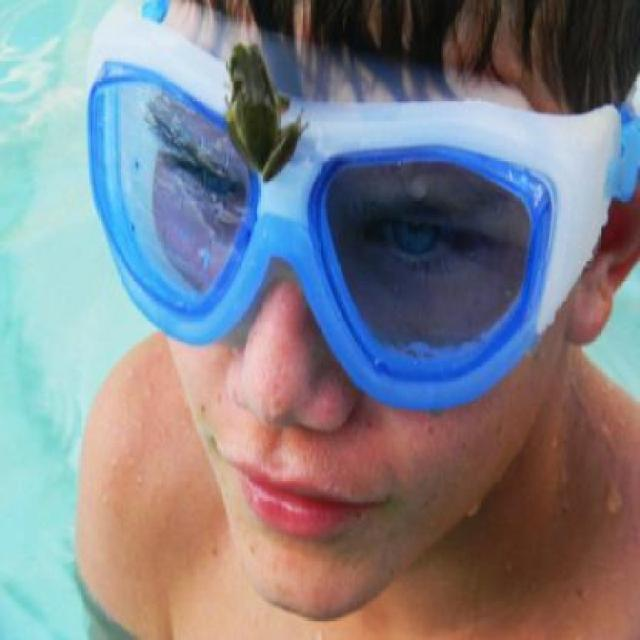face_nomask: (154, 132, 472, 536)
glasses: (82, 0, 639, 415)
